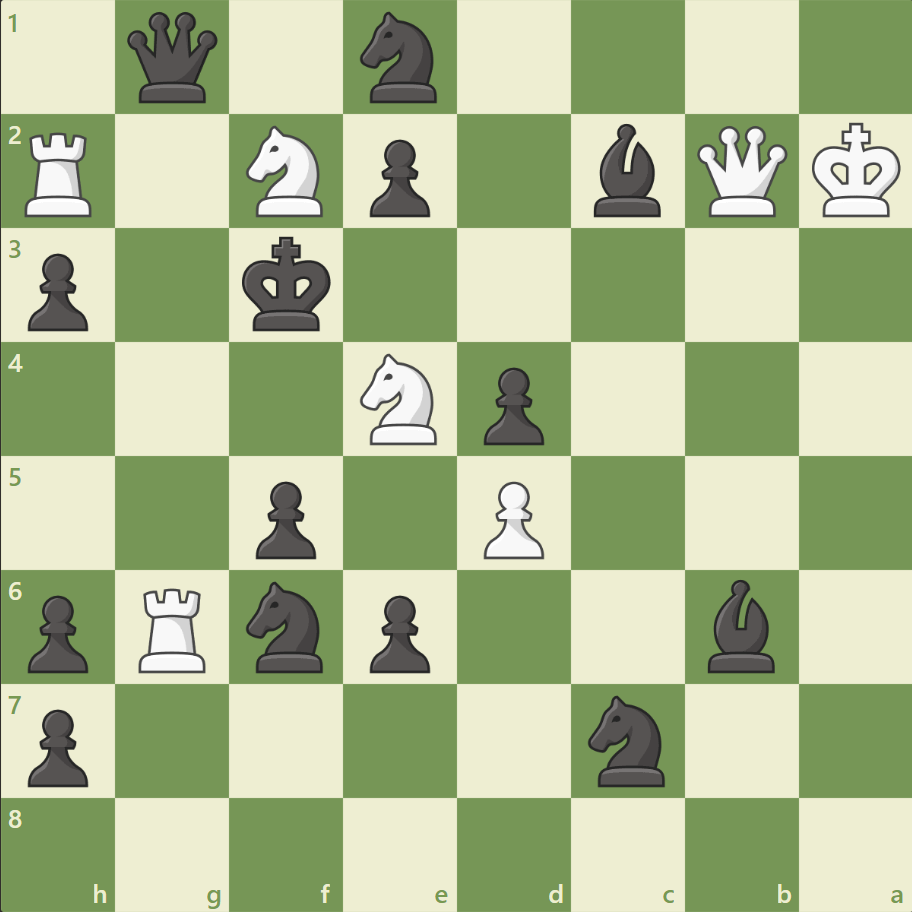K: (806, 117, 906, 225)
N: (351, 348, 449, 450), (238, 121, 335, 223)
P: (474, 473, 549, 564)
Q: (691, 122, 790, 222)
R: (19, 125, 102, 222), (133, 579, 215, 676)
b: (698, 574, 782, 676), (585, 120, 669, 222)
k: (238, 231, 338, 339)
n: (351, 7, 449, 110), (579, 688, 676, 791), (238, 575, 335, 677)
p: (20, 700, 95, 791), (20, 586, 95, 677), (247, 473, 322, 564), (474, 359, 549, 450), (20, 246, 95, 337), (361, 586, 435, 677), (361, 132, 435, 223)
q: (124, 9, 223, 108)
